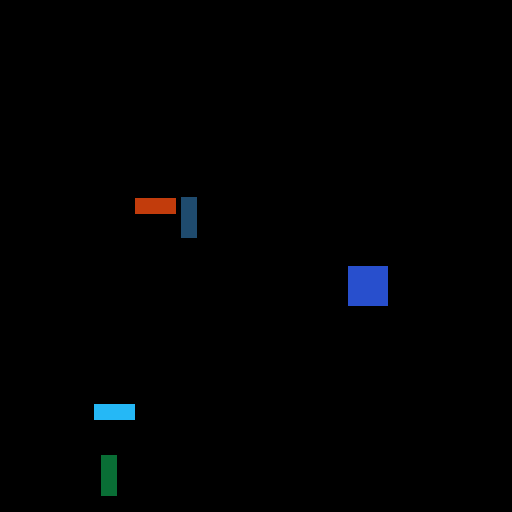side_rect: (133, 197, 178, 215), (92, 403, 137, 421)
square: (345, 264, 391, 307)
up_rect: (179, 194, 200, 241), (98, 452, 119, 499)
